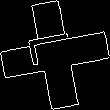L_E: (27, 35, 83, 75)
